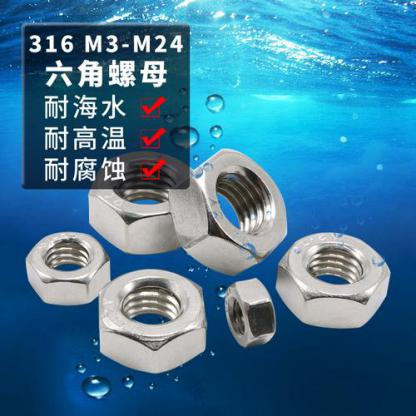FOD: (165, 141, 286, 276), (275, 228, 397, 332), (86, 146, 196, 256), (95, 272, 205, 378), (23, 228, 111, 308), (224, 277, 277, 352)
